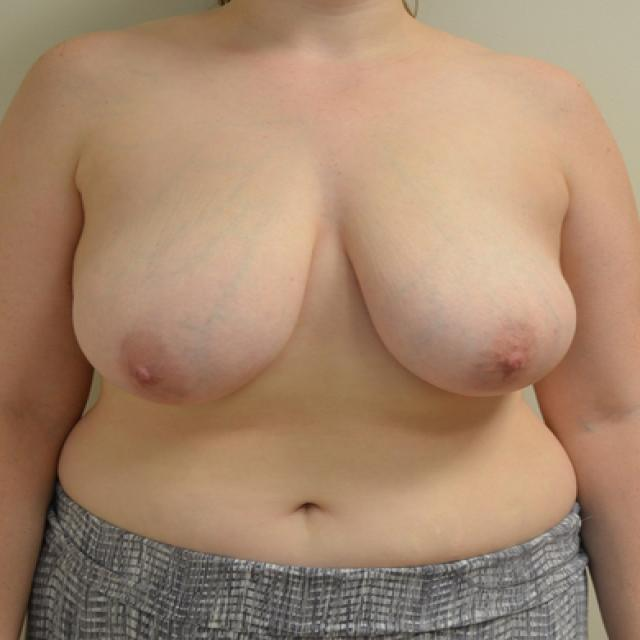Seno ileso: (65, 178, 327, 424), (330, 180, 584, 415)
